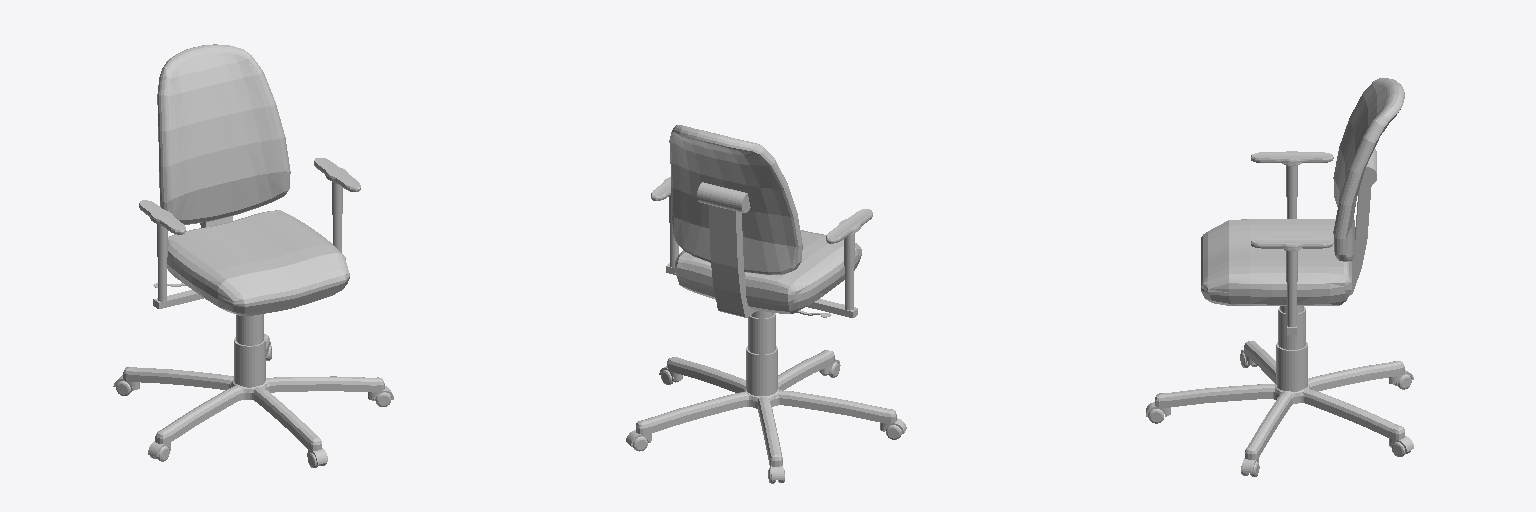
The model's file is office-chair.obj.
3 renders of one model, left to right at view 1: azimuth 30°, elevation 25°; view 2: azimuth 150°, elevation 25°; view 3: azimuth 270°, elevation 25°, orthographic.
Visible parts, largest first — view 1: OfficeChair; view 2: OfficeChair; view 3: OfficeChair.
Part boxes in pixels (bbox=[...]): OfficeChair: bbox=[113, 44, 393, 467]; OfficeChair: bbox=[626, 125, 906, 483]; OfficeChair: bbox=[1146, 78, 1413, 476].
Size of the model in its own units: 0.9729 by 1.26 by 0.9263.